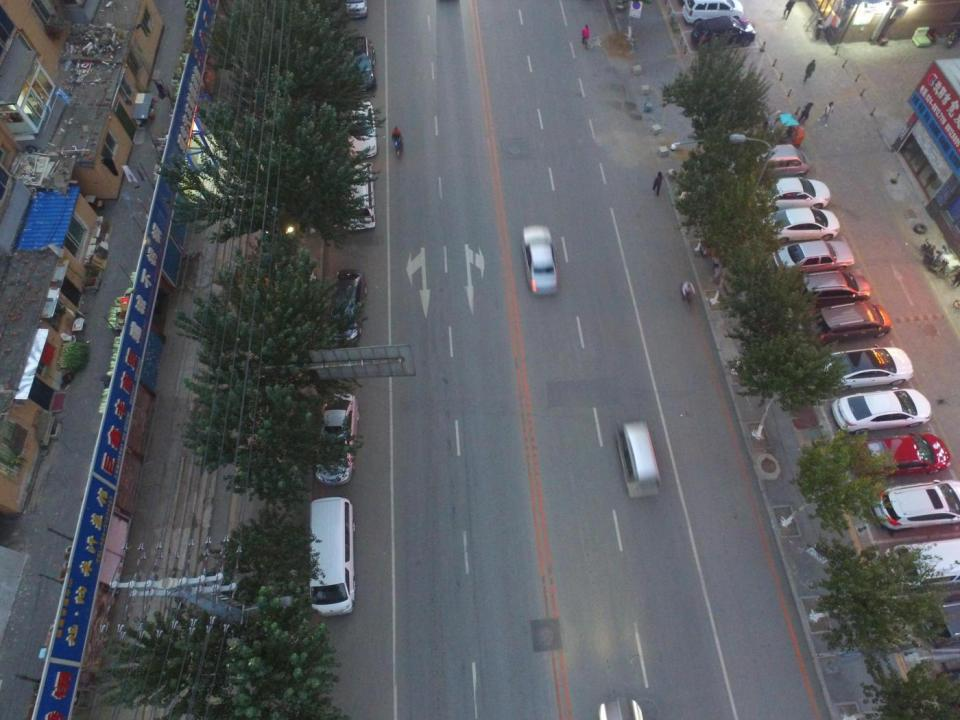car: (309, 493, 360, 614), (832, 389, 932, 439), (314, 389, 360, 489), (872, 481, 960, 532), (849, 435, 951, 477), (813, 346, 918, 384), (754, 206, 840, 245), (324, 270, 368, 344), (338, 160, 380, 236), (520, 223, 559, 294), (792, 268, 869, 303), (771, 240, 854, 272), (751, 176, 830, 208), (341, 34, 378, 94), (346, 100, 377, 163), (345, 0, 367, 19)
van: (618, 420, 662, 505), (879, 539, 960, 584), (801, 301, 895, 336), (746, 145, 813, 179), (691, 16, 756, 50), (683, 0, 743, 23), (918, 604, 960, 636)
